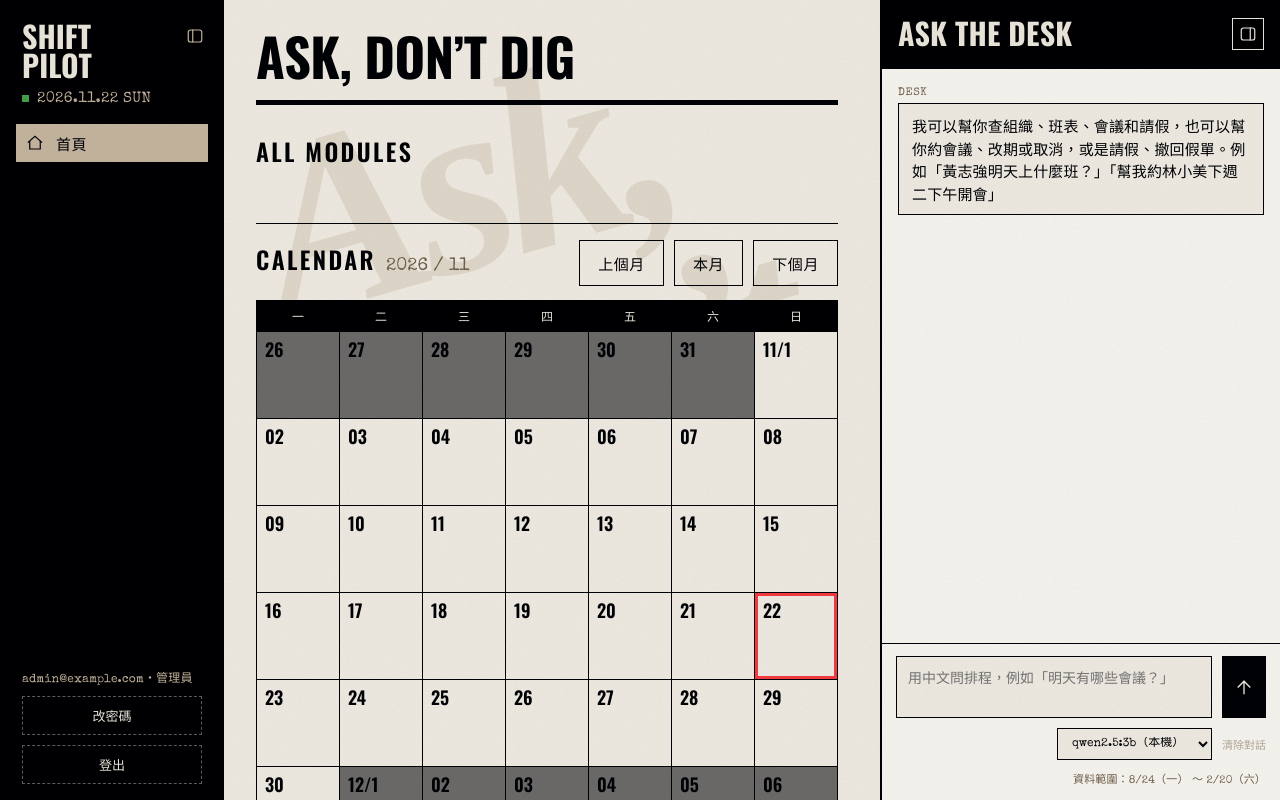
Test: testResourceConflictIsFailure
Check: the element named "問答面板" is shown, box [880,0,1279,799]
Check: the dropdown named "模型" is shown, box [1057,728,1212,760]
Type "幫我排會議" into the text box named "問題".
click(1054, 687); type("幫我排會議")  # box [896,656,1212,718]
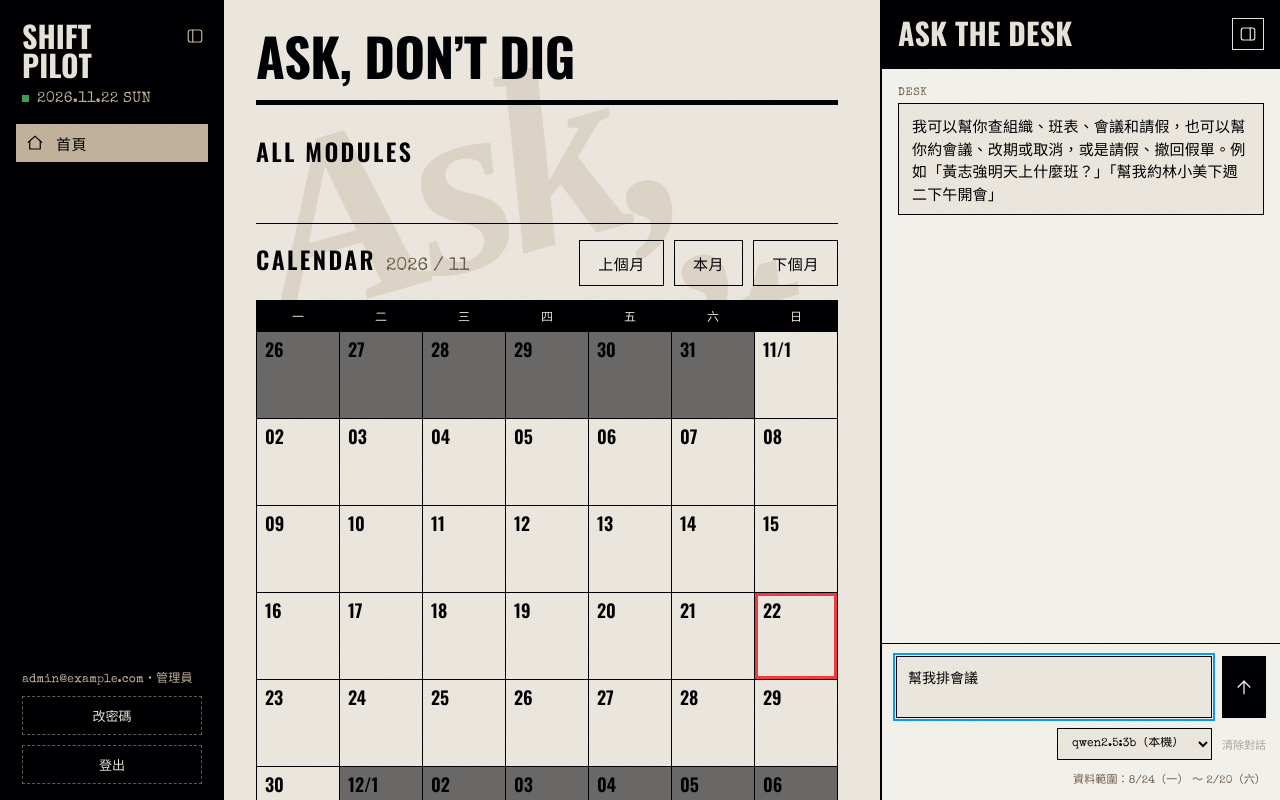
Click the button named "送出".
click(1244, 687)  # box [1222,656,1266,718]
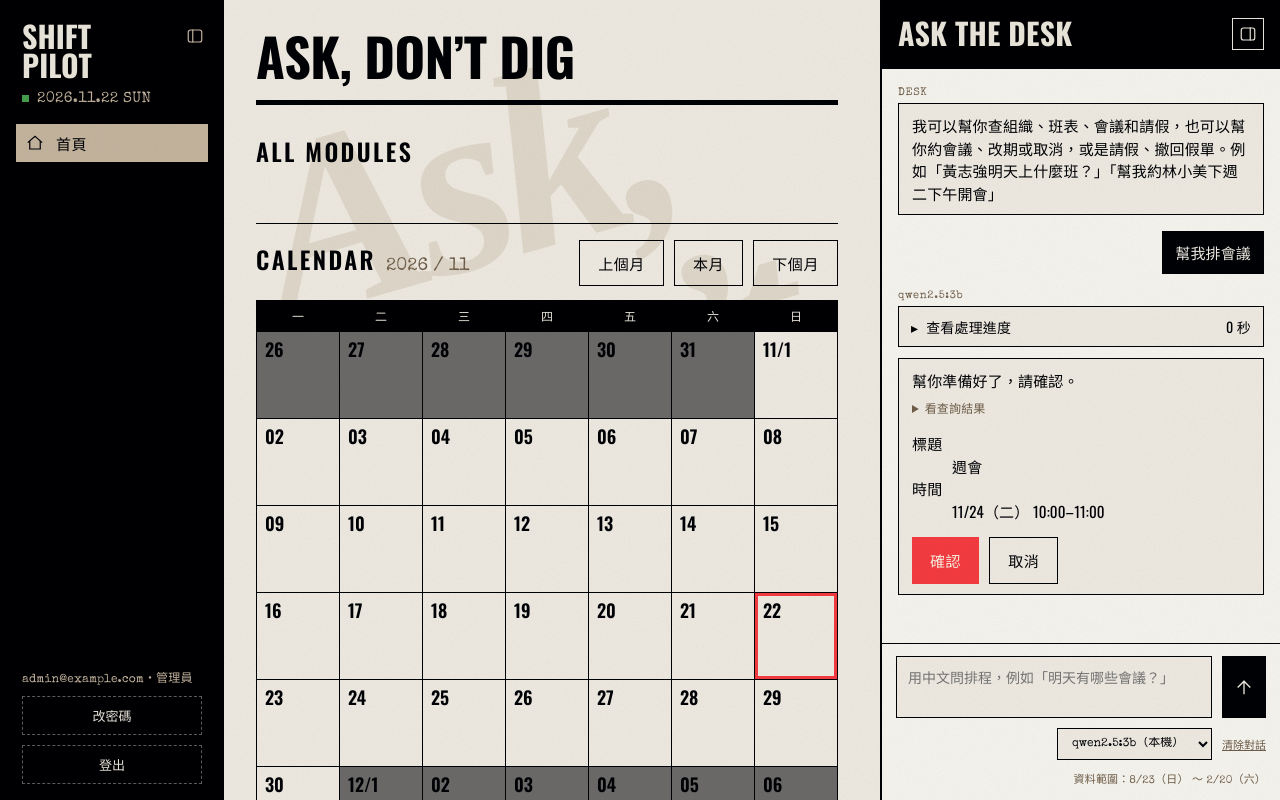
Click the button "確認".
click(946, 560)  # box [912,537,979,584]
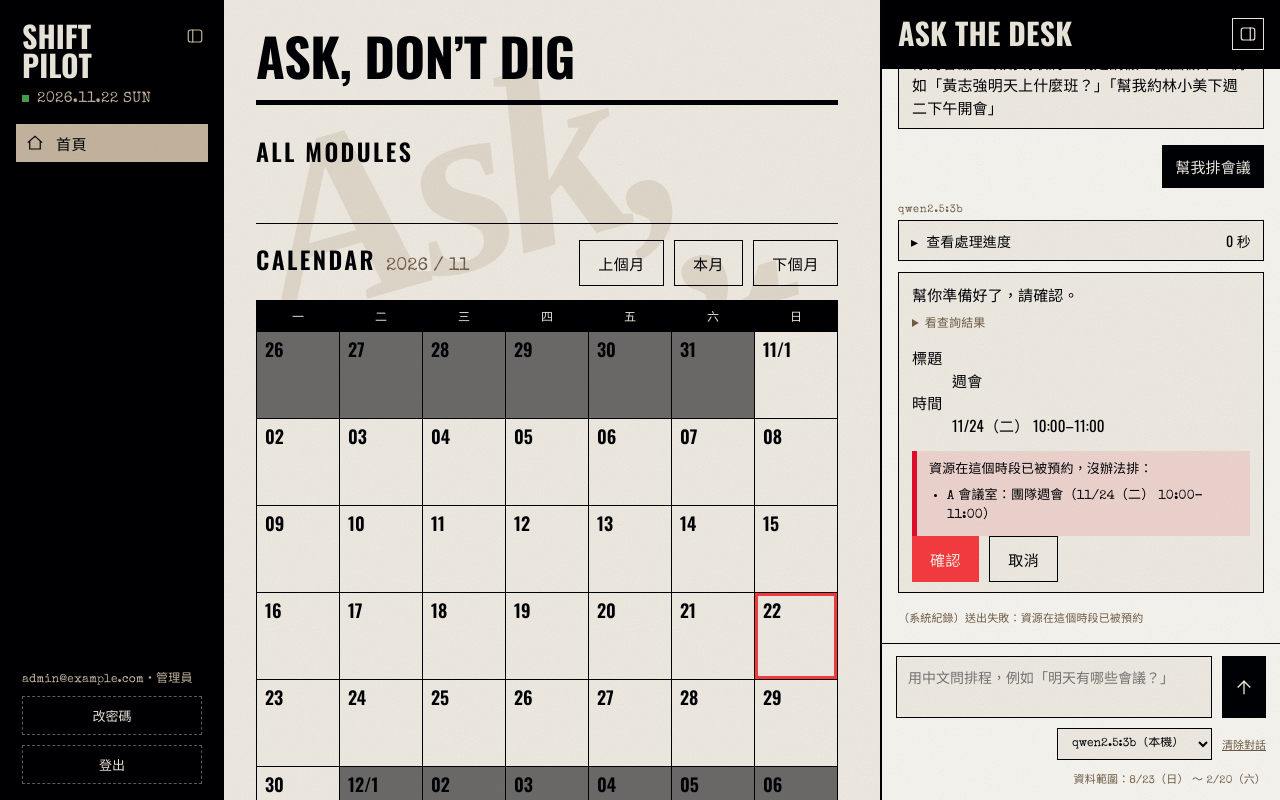
Check: the text "（系統紀錄）送出失敗：資源在這個時段已被預約" is shown, box [898,609,1143,625]
Check: the list item "A 會議室：團隊週會（11/24（二） 10:00–11:00）" is shown, box [947,486,1238,526]
